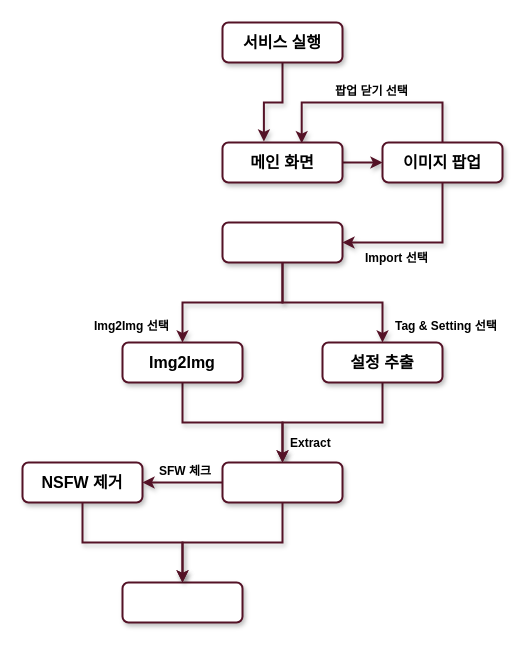
The diagram is 526 pixels wide and 647 high, and some of its shapes have lost their labels. Here are the shapes that lost their labels. From the top down, the centre of each, then its label:
(283,243): 이미지 불러오기
(283,483): 결과 생성
(183,603): 결과 출력
